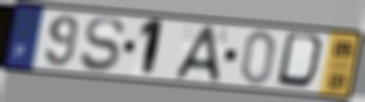0: (238, 29, 278, 88)
1: (136, 18, 165, 81)
9: (42, 13, 81, 69)
A: (172, 24, 222, 84)
D: (274, 30, 330, 92)
S: (79, 16, 127, 74)
